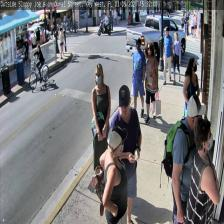person: (171, 95, 206, 224), (110, 84, 142, 224), (184, 118, 219, 224), (99, 125, 128, 224), (92, 63, 110, 181), (182, 58, 199, 138), (130, 37, 146, 121), (144, 42, 158, 123)
